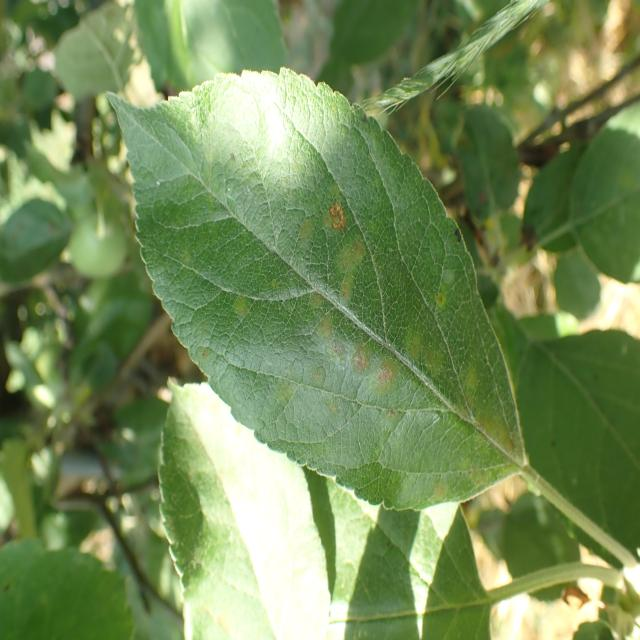scab: (164, 122, 520, 486)
